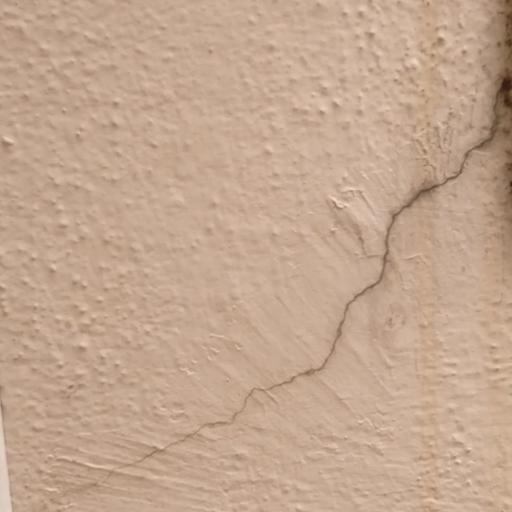minor_crack: (53, 62, 512, 512)
